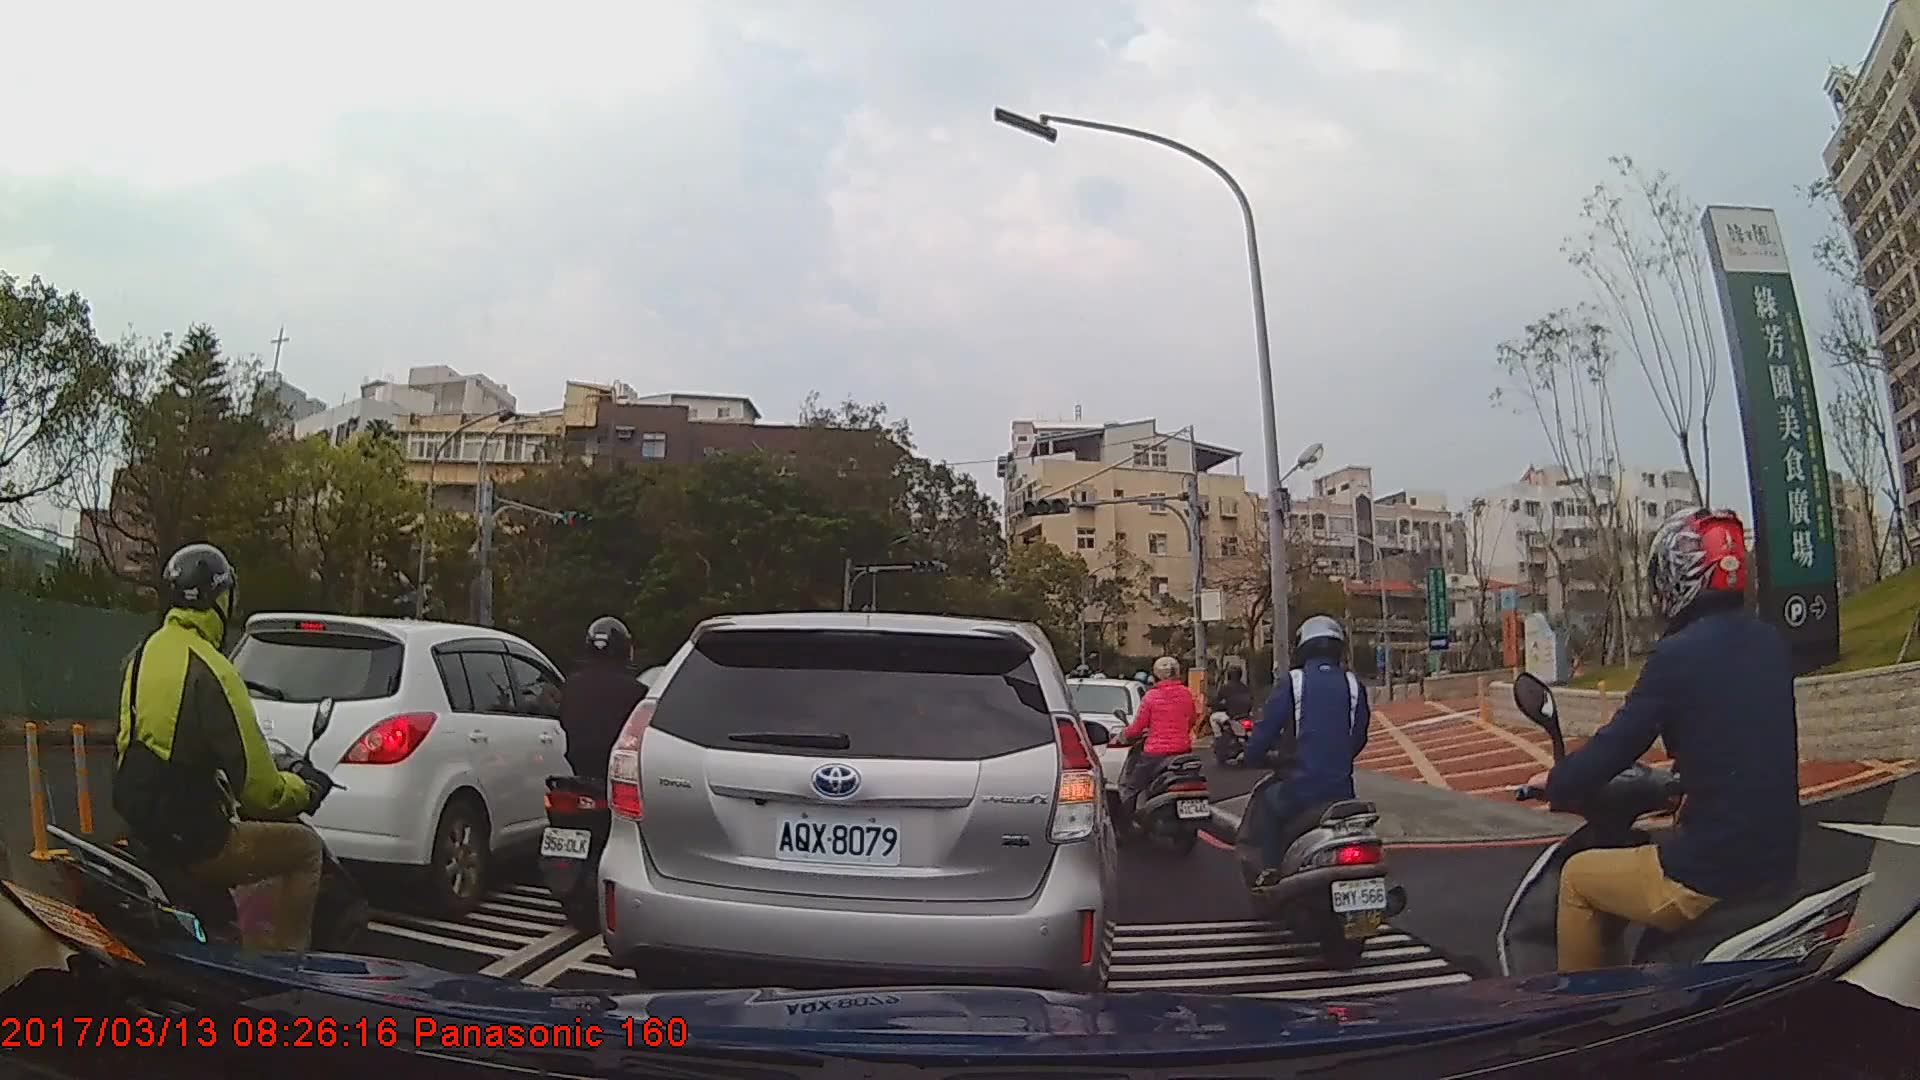rider: (1498, 500, 1881, 1060), (47, 543, 374, 1043), (1225, 615, 1393, 961), (538, 617, 690, 936), (1108, 653, 1216, 863), (1211, 663, 1258, 764)
vehicle: (595, 611, 1118, 998), (179, 612, 627, 918)
